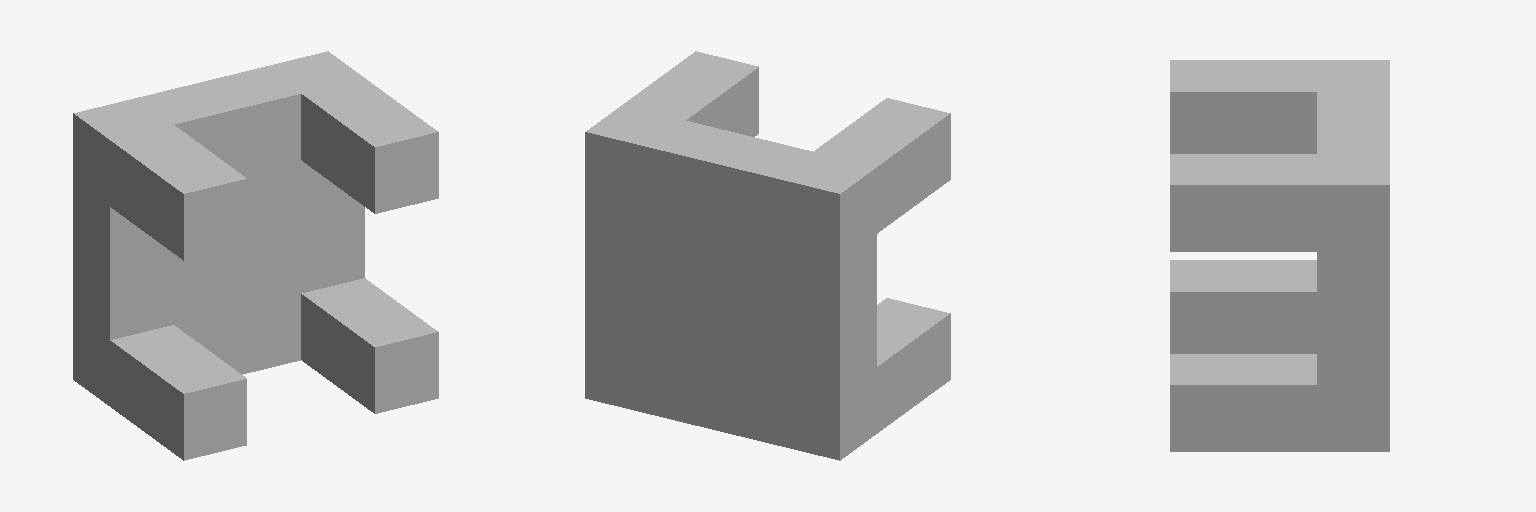
The model's file is E2-Pieza-01.obj.
3 views of the same model, side by side, from view 1: azimuth 30°, elevation 25°; view 2: azimuth 150°, elevation 25°; view 3: azimuth 270°, elevation 25° (orthographic).
Parts seen in each view (by area): view 1: mesh12, mesh14, mesh13, mesh5, mesh10, mesh6, mesh3, mesh11, mesh7, mesh4, mesh17; view 2: mesh0, mesh14, mesh13, mesh10, mesh3; view 3: mesh8, mesh13, mesh2, mesh16, mesh3, mesh6.
Boxes of the visible parts, x1=… form: mesh12: x1=110, y1=94, x2=364, y2=374; mesh14: x1=73, y1=113, x2=183, y2=460; mesh13: x1=74, y1=51, x2=437, y2=193; mesh5: x1=301, y1=294, x2=374, y2=413; mesh10: x1=301, y1=94, x2=374, y2=213; mesh6: x1=302, y1=278, x2=437, y2=346; mesh3: x1=110, y1=325, x2=246, y2=393; mesh11: x1=375, y1=132, x2=438, y2=213; mesh7: x1=375, y1=332, x2=438, y2=413; mesh4: x1=184, y1=379, x2=246, y2=460; mesh17: x1=184, y1=179, x2=246, y2=260; mesh0: x1=585, y1=132, x2=839, y2=460; mesh14: x1=840, y1=113, x2=950, y2=460; mesh13: x1=586, y1=51, x2=949, y2=193; mesh10: x1=686, y1=67, x2=758, y2=136; mesh3: x1=877, y1=298, x2=949, y2=366; mesh8: x1=1170, y1=185, x2=1389, y2=451; mesh13: x1=1170, y1=60, x2=1389, y2=184; mesh2: x1=1170, y1=292, x2=1316, y2=353; mesh16: x1=1170, y1=92, x2=1316, y2=153; mesh3: x1=1170, y1=260, x2=1316, y2=291; mesh6: x1=1170, y1=354, x2=1316, y2=384.
Bounding box in the file's own units: 0.02 × 0.02 × 0.015.